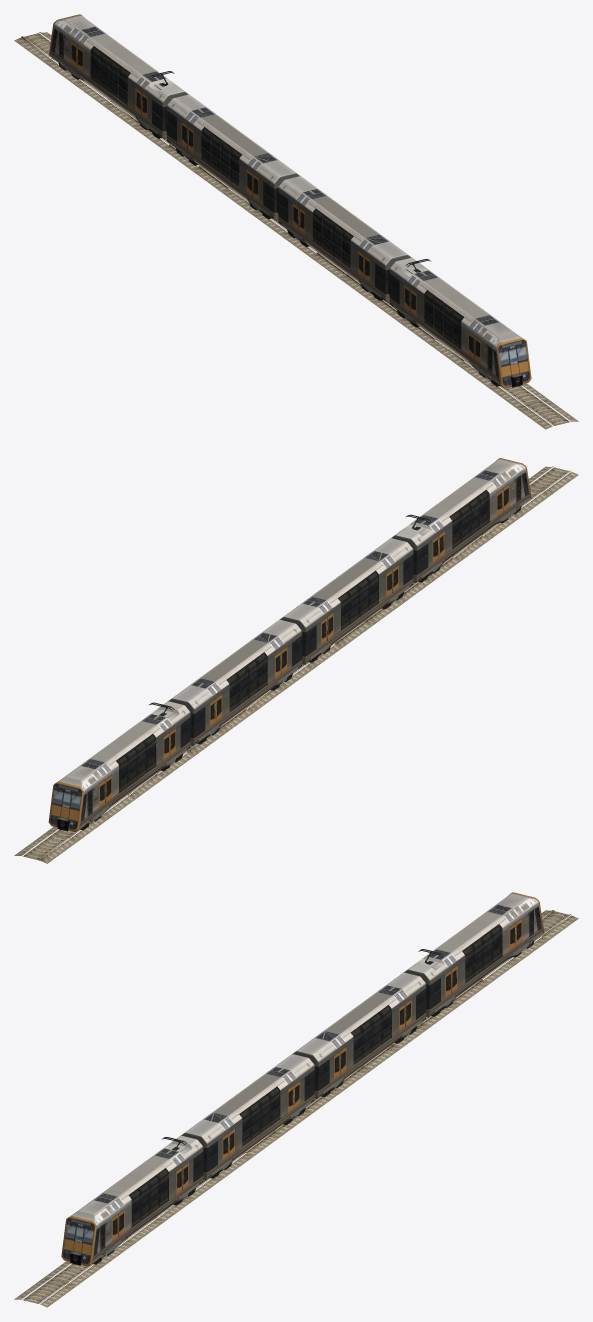
File: train.glb
3 views of the same model, one above another, from view 1: azimuth 30°, elevation 25°; view 2: azimuth 150°, elevation 25°; view 3: azimuth 330°, elevation 25° (orthographic).
Parts seen in each view (by area): view 1: Cube.003_7, Cube_0, Cube.001_4, Cube.002_6, Plane_5; view 2: Cube_0, Cube.003_7, Cube.001_4, Cube.002_6, Plane_5; view 3: Cube.003_7, Cube_0, Cube.002_6, Cube.001_4, Plane_5.
Part boxes in pixels (box(x1,y1,x2,y2)): Cube.003_7: box(389, 257, 531, 388); Cube_0: box(48, 14, 189, 139); Cube.001_4: box(166, 94, 300, 220); Cube.002_6: box(278, 176, 412, 302); Plane_5: box(14, 32, 578, 429); Cube_0: box(48, 701, 190, 832); Cube.003_7: box(390, 458, 531, 582); Cube.001_4: box(168, 620, 301, 746); Cube.002_6: box(279, 538, 413, 664); Plane_5: box(14, 466, 578, 863); Cube.003_7: box(61, 1135, 203, 1266); Cube_0: box(403, 892, 544, 1017); Cube.002_6: box(180, 1054, 314, 1180); Cube.001_4: box(292, 972, 425, 1098); Plane_5: box(14, 910, 578, 1307).
Size of the model in its own units: 1.97 by 3.31 by 54.35.
Materials: 8 (8 with a texture image).
